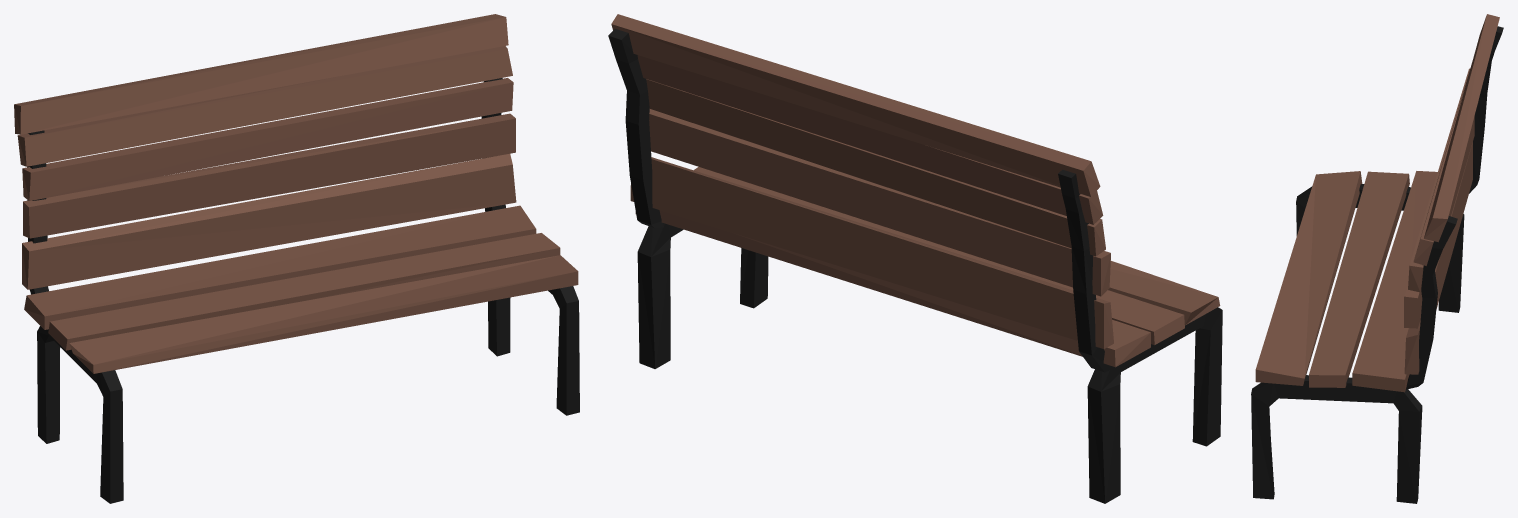
Rendered from node.009_lev3.glb.
3 views of the same model, side by side, from view 1: azimuth 30°, elevation 25°; view 2: azimuth 150°, elevation 25°; view 3: azimuth 270°, elevation 25° (orthographic). The views are drawn at different scales.
Visible parts, largest first — view 1: node.009_lev3; view 2: node.009_lev3; view 3: node.009_lev3.
Boxes of the visible parts, x1,y1,x2,y2 form: node.009_lev3: (14,14,579,503); node.009_lev3: (608,14,1222,503); node.009_lev3: (1251,14,1503,503).
Bounding box in the file's own units: 2.1 × 1.35 × 1.05.
